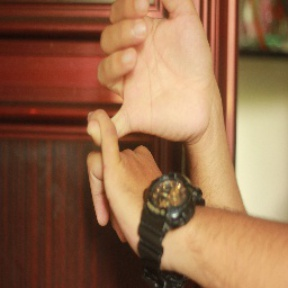S: (69, 1, 232, 249)
